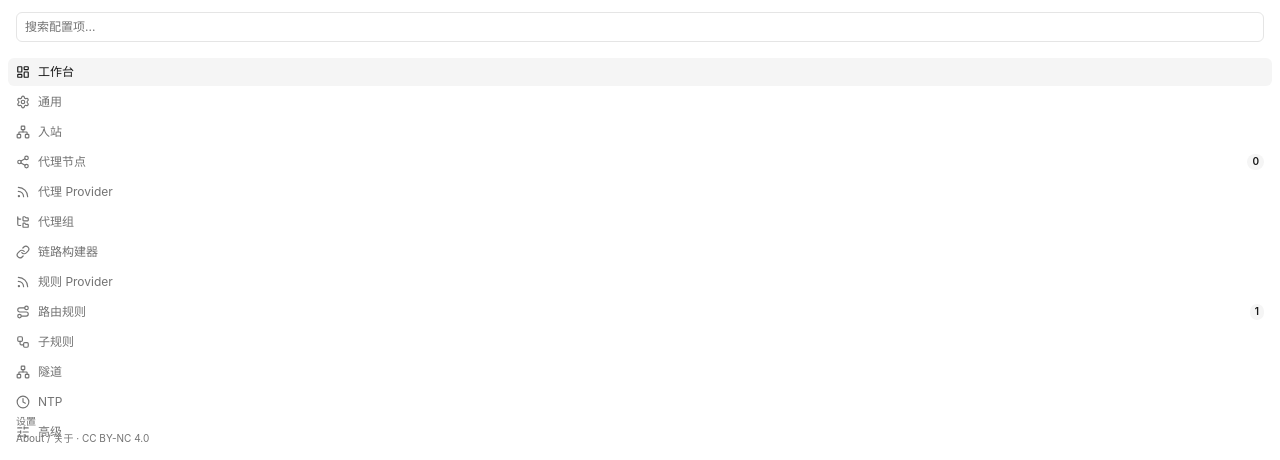
Test: NavTree component › should show all items when search is empty
Type "代理" into the field with placeholder "搜索配置项..." at (640, 27), box top-left (16, 12), bottom-right (1264, 42)
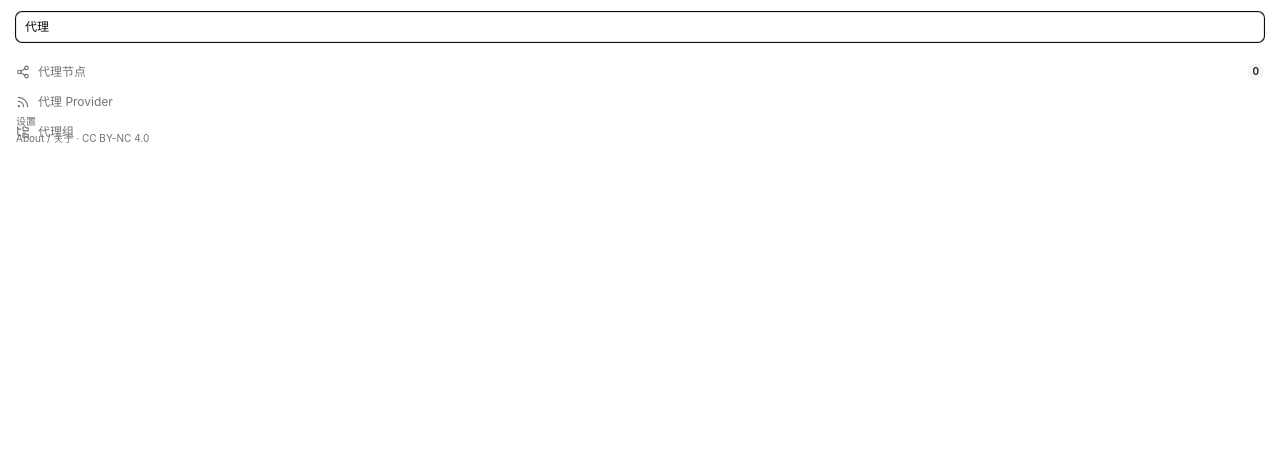
Clear the field with placeholder "搜索配置项..." at (640, 27), box top-left (16, 12), bottom-right (1264, 42)
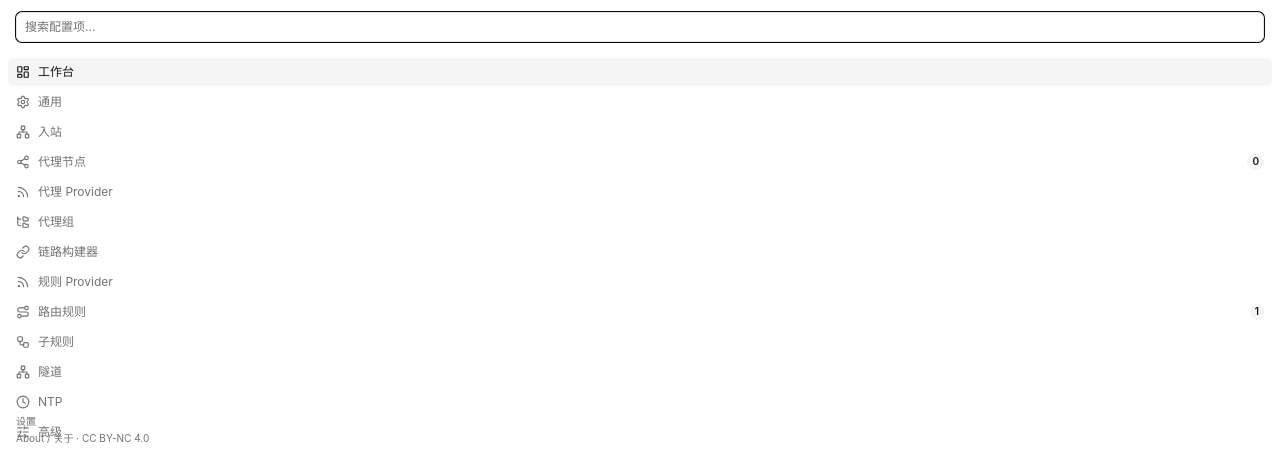
Expected: the text "代理节点" is shown, top-left (38, 154), bottom-right (86, 169)
Now the text "工作台" is shown, box top-left (38, 64), bottom-right (74, 79)
